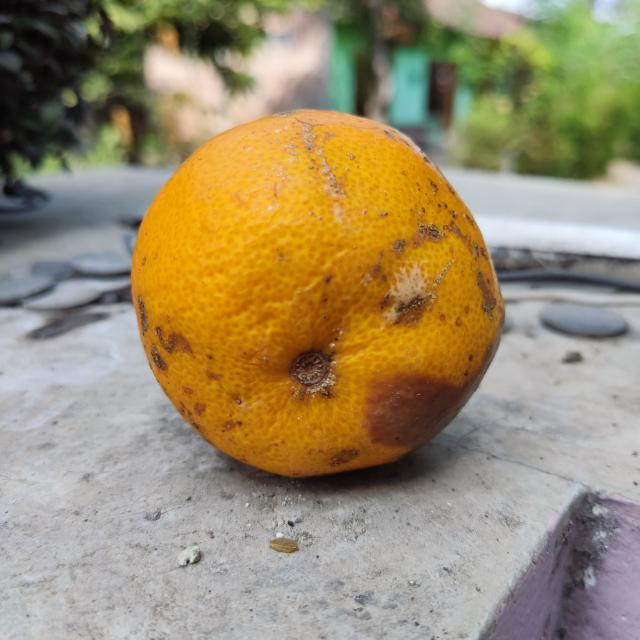orange: (130, 110, 505, 479)
